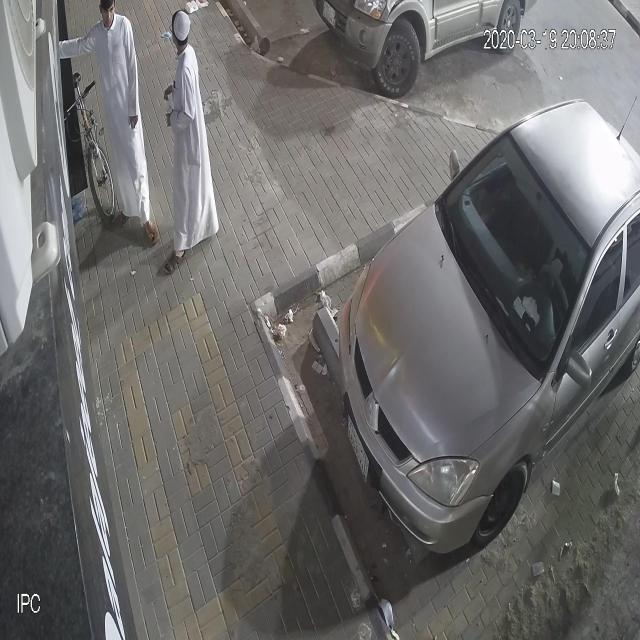license_plate: (347, 414, 369, 484), (322, 0, 336, 28)
